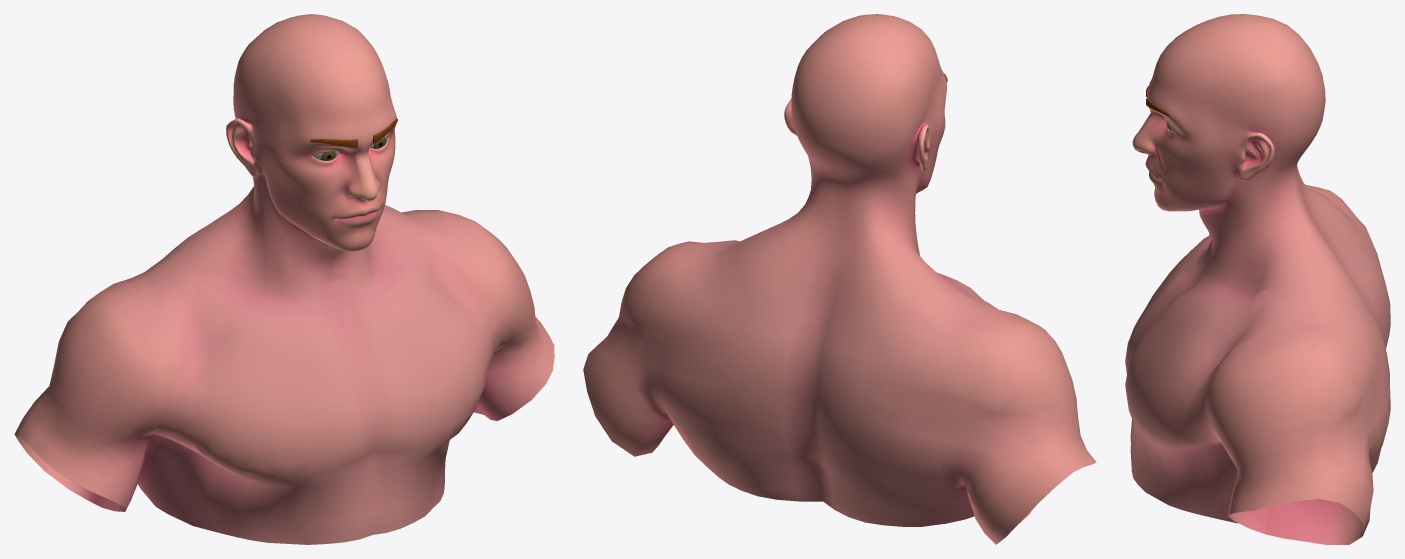
Rendered from BlendshapeBased_Rig_anim.fbx.
The picture shows the model from 3 angles, left to right: view 1: azimuth 30°, elevation 25°; view 2: azimuth 150°, elevation 25°; view 3: azimuth 270°, elevation 25°; orthographic projection. The views are drawn at different scales.
Parts seen in each view (by area): view 1: Body; view 2: Body; view 3: Body.
Part boxes in pixels (box(x1,y1,x2,y2)): Body: box(14, 14, 554, 544); Body: box(583, 14, 1096, 544); Body: box(1125, 14, 1390, 544).
Bounding box in the file's own units: 66.3 × 58.28 × 31.58.
Materials: 3 (1 with a texture image).
